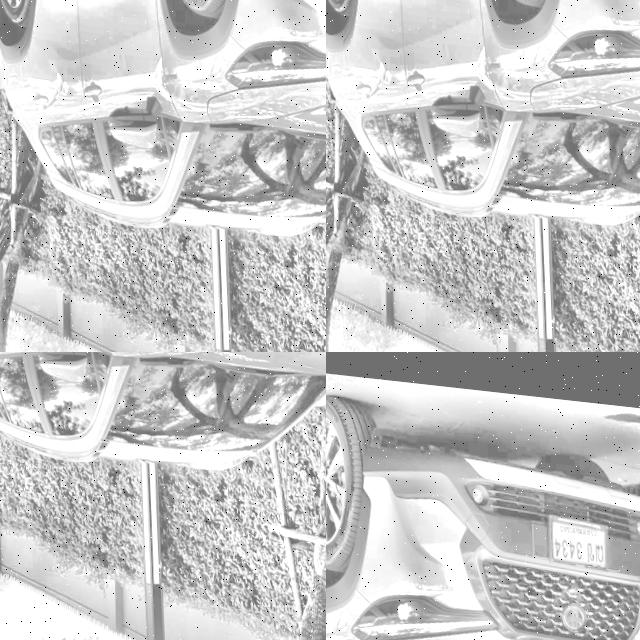license-plate: (546, 503, 606, 559)
